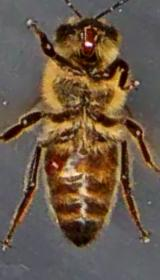varroa_mite: (41, 148, 66, 177)
